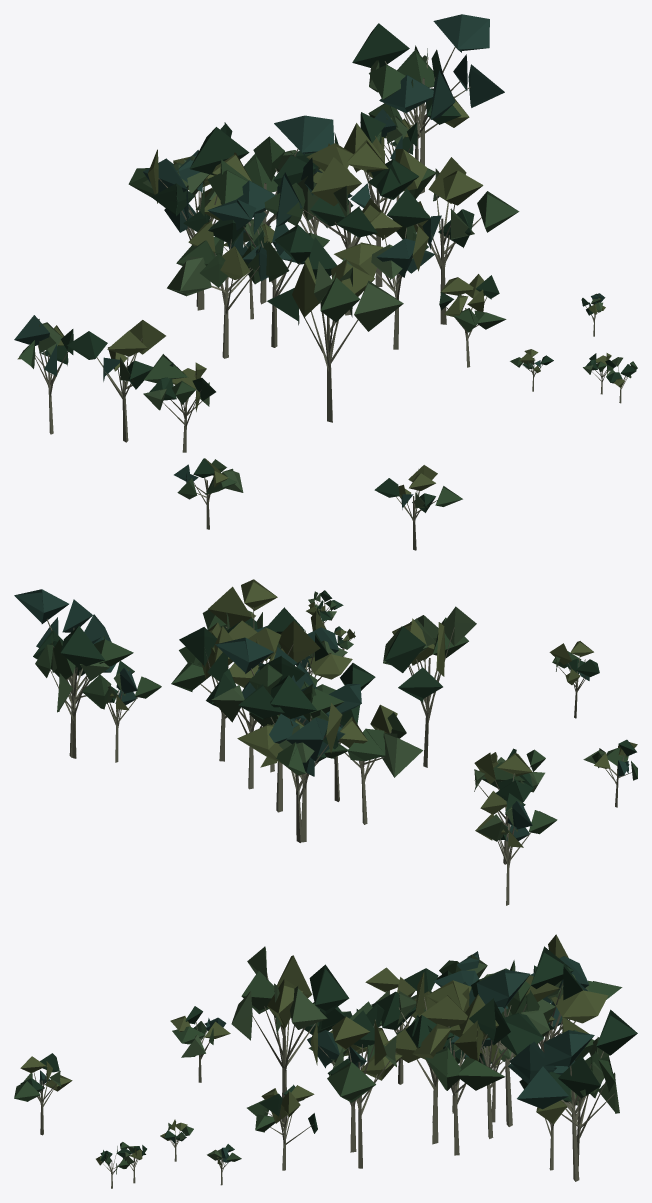
File: forest_19_23.dae
3 renders of one model, top to bottom at view 1: azimuth 30°, elevation 25°; view 2: azimuth 150°, elevation 25°; view 3: azimuth 270°, elevation 25°, orthographic. The views are drawn at different scales.
Parts seen in each view (by area): view 1: Node; view 2: Node; view 3: Node.
Boxes of the visible parts, left/top/right/bottom form: Node: left=14, top=14, right=637, bottom=550; Node: left=14, top=579, right=637, bottom=905; Node: left=14, top=934, right=637, bottom=1188.
Bounding box in the file's own units: 10.96 × 11.36 × 5.31.
